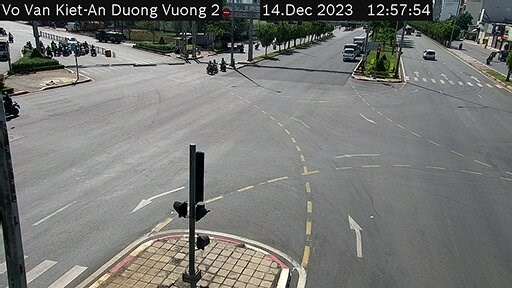car: (422, 45, 438, 63)
truck: (342, 41, 362, 64)
